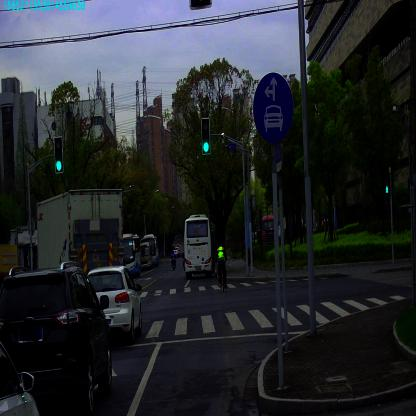traffic-light: (201, 118, 210, 154), (54, 137, 63, 172)
